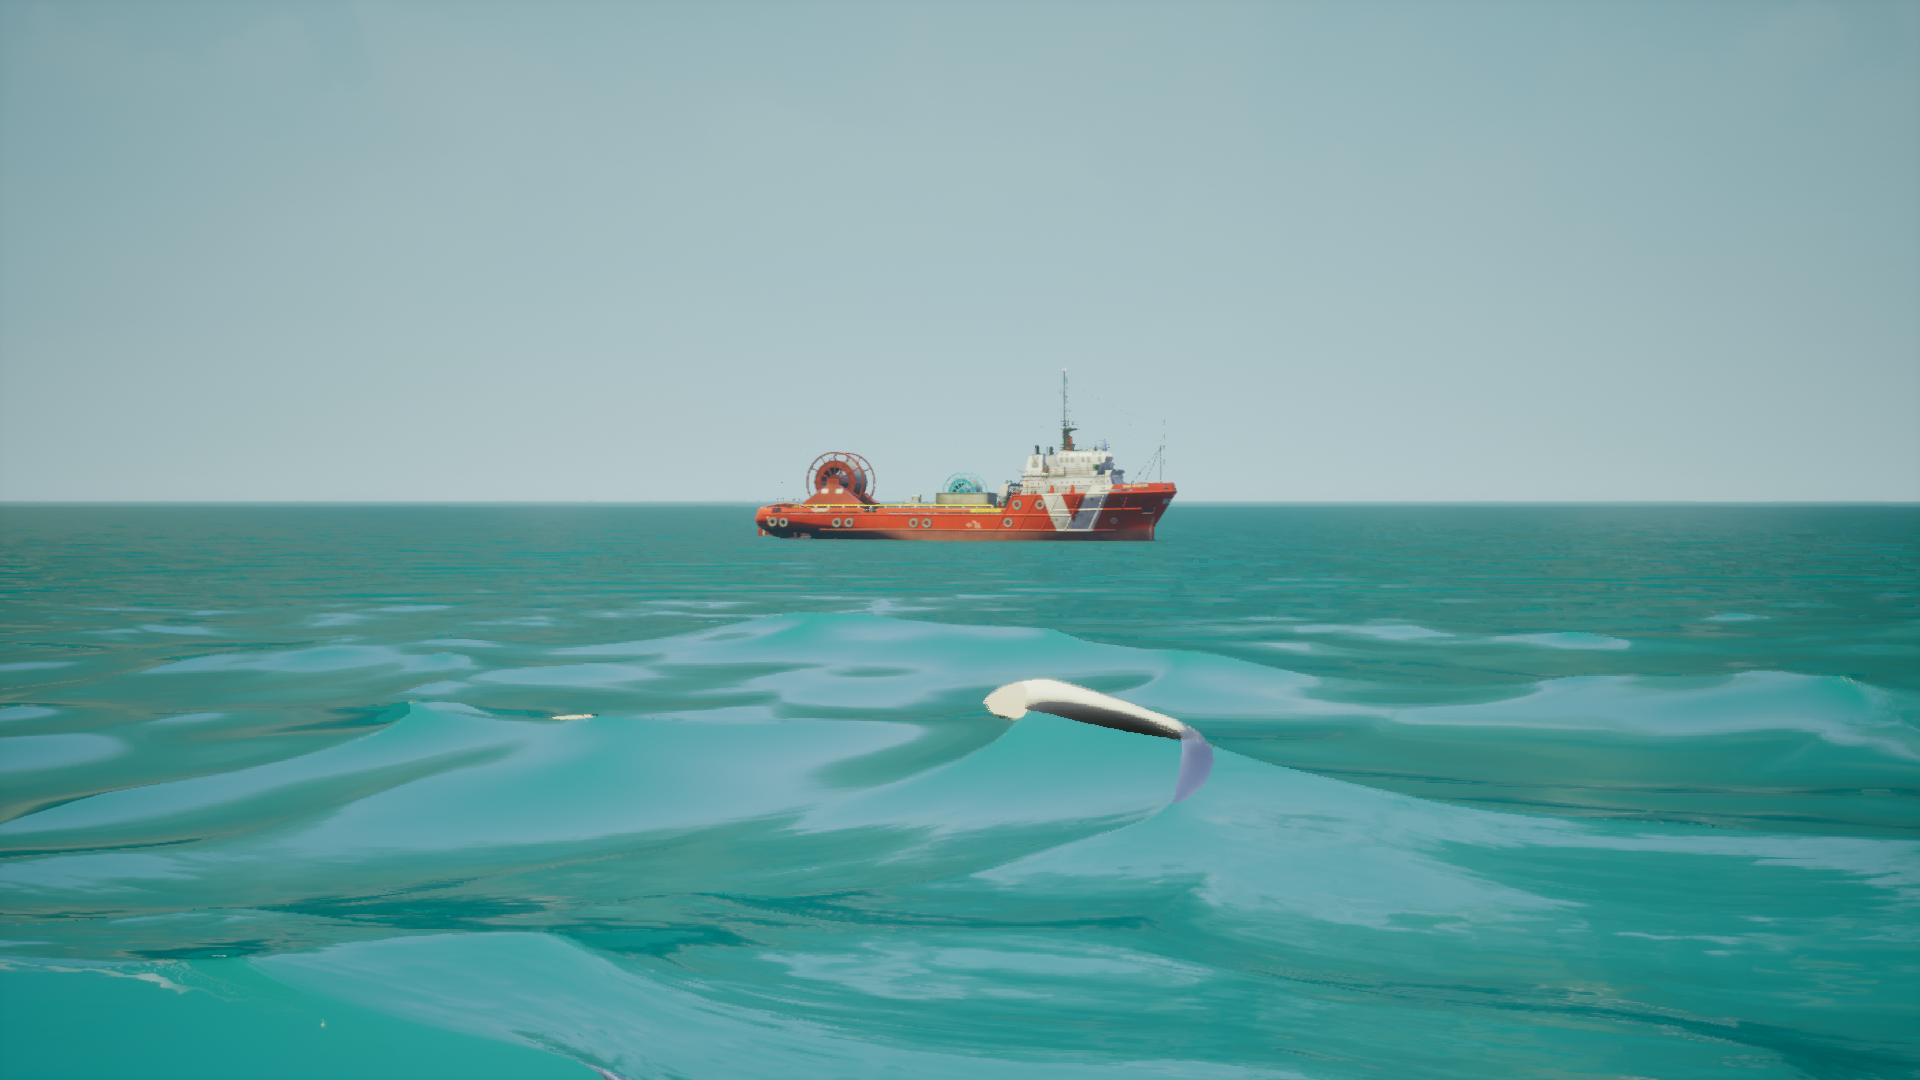Tug Boat: (758, 367, 1180, 545)
